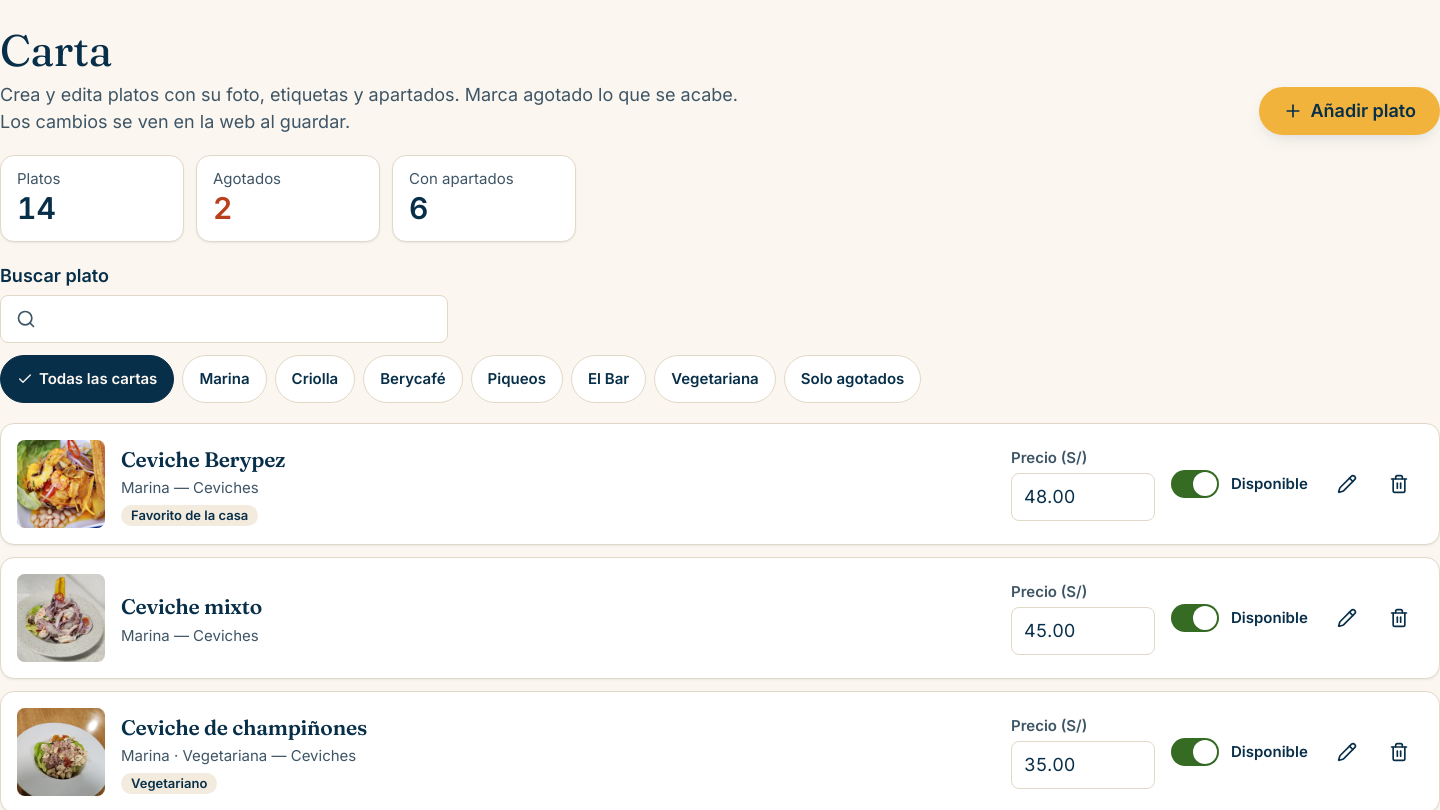
LiveCartaManager › guarda una edición en el servidor y muestra la carta que devuelve
The image size is (1440, 810).
Click the button named "Editar Ceviche Berypez" at (1347, 484), box x1=1323 y1=460 x2=1371 y2=508
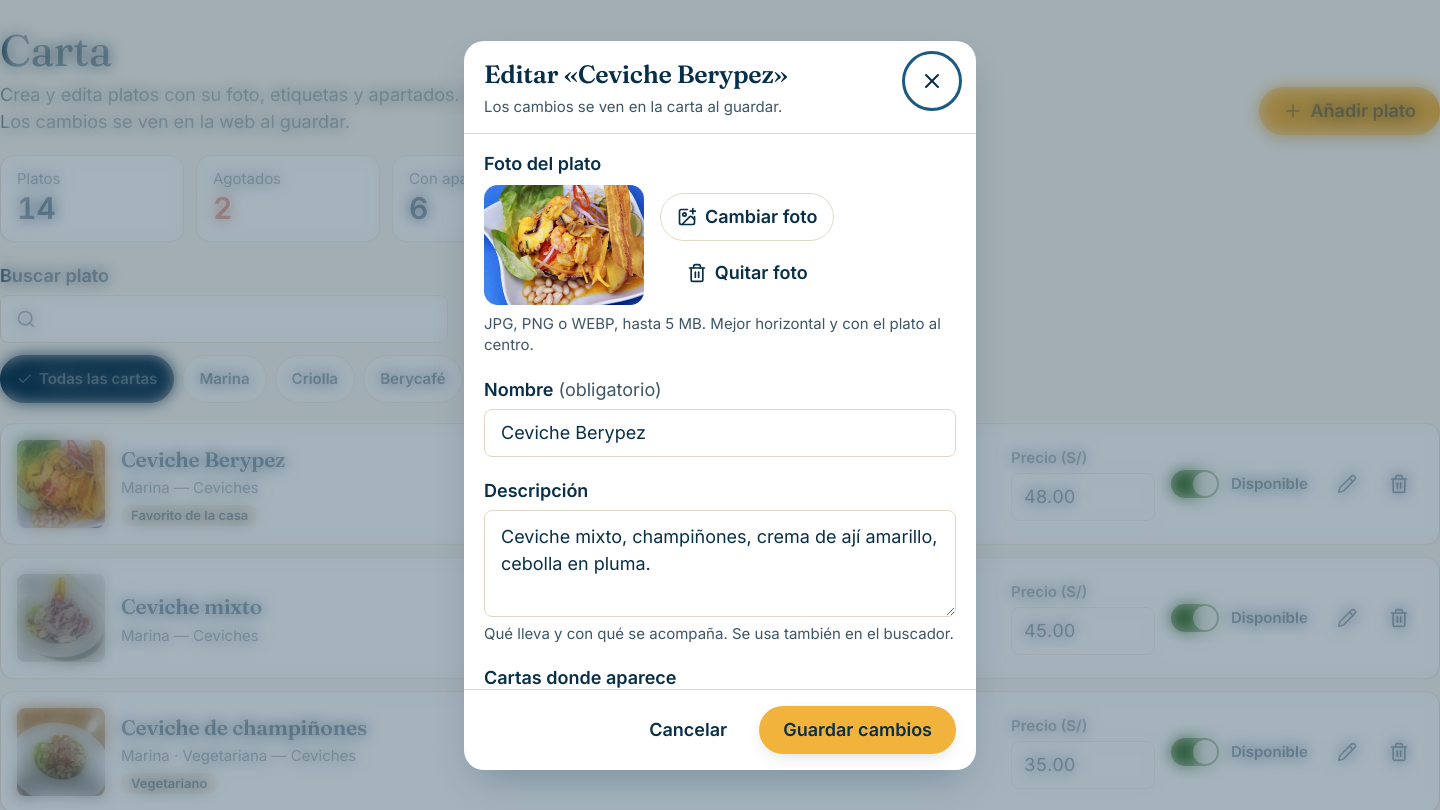
Replace the text in the field labelled "Nombre (obligatorio)" with "Ceviche de la casa" at (720, 433), box x1=484 y1=409 x2=956 y2=457
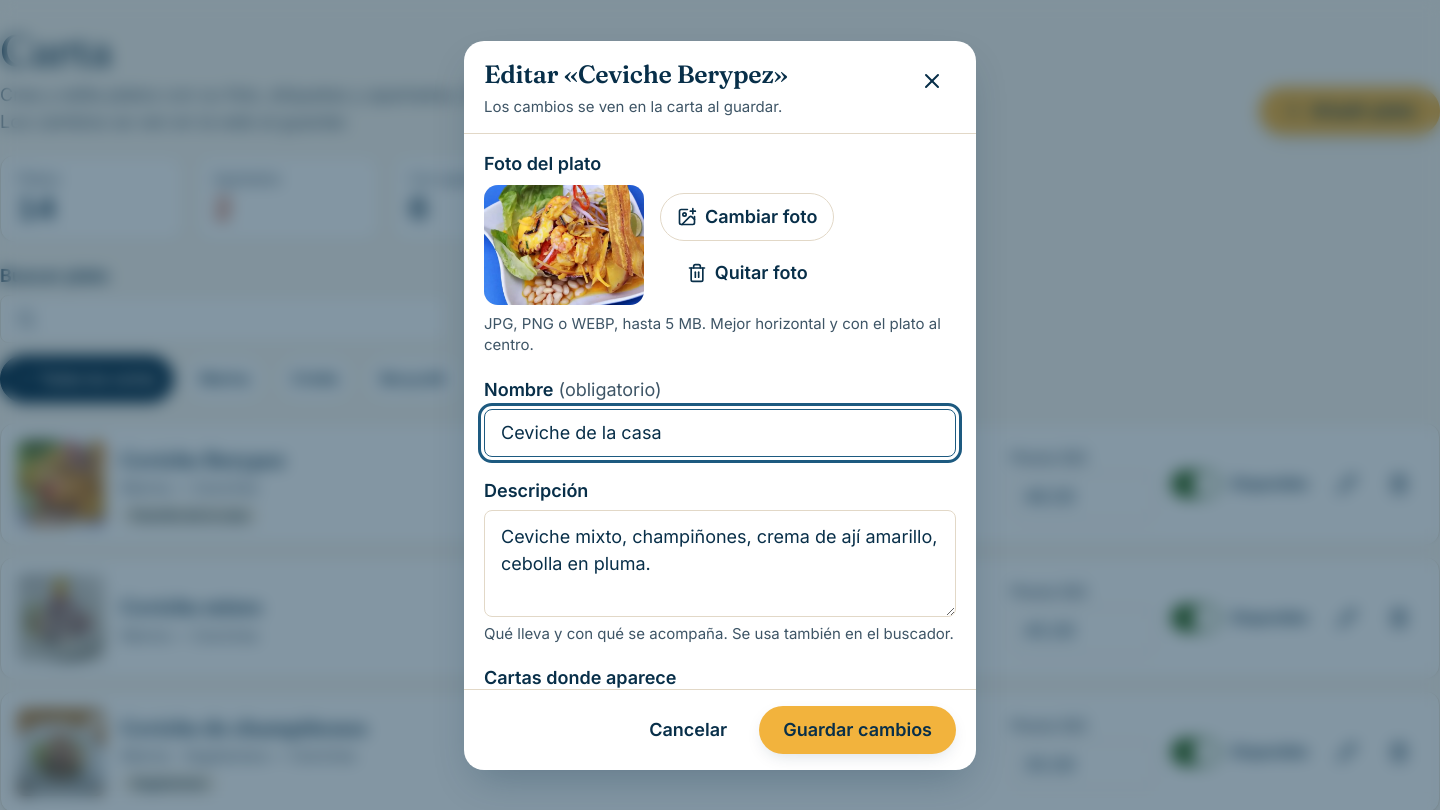
Click the button "Guardar cambios" at (858, 730), box x1=759 y1=706 x2=956 y2=754
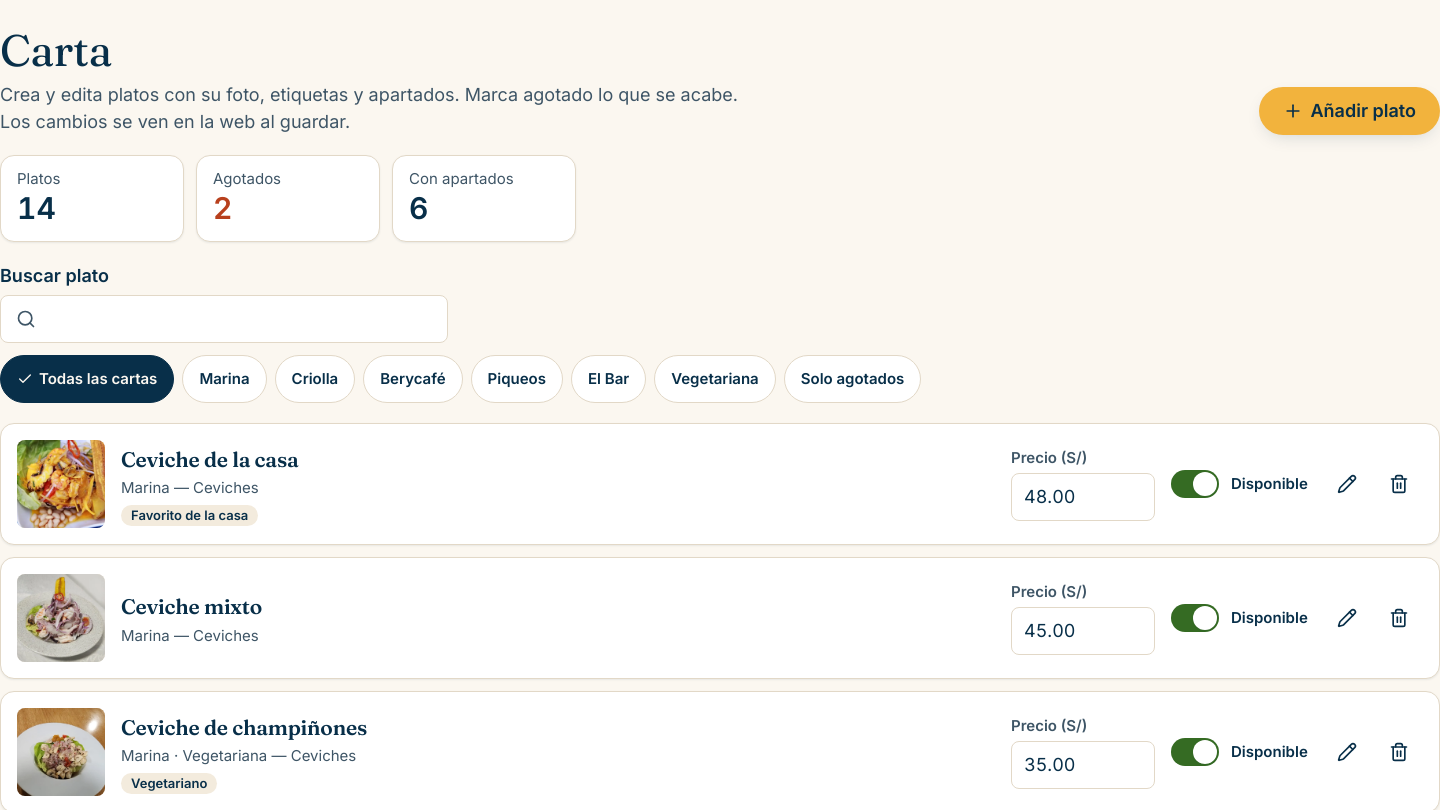
Check: the heading "Ceviche de la casa" is shown, box x1=121 y1=442 x2=298 y2=475
